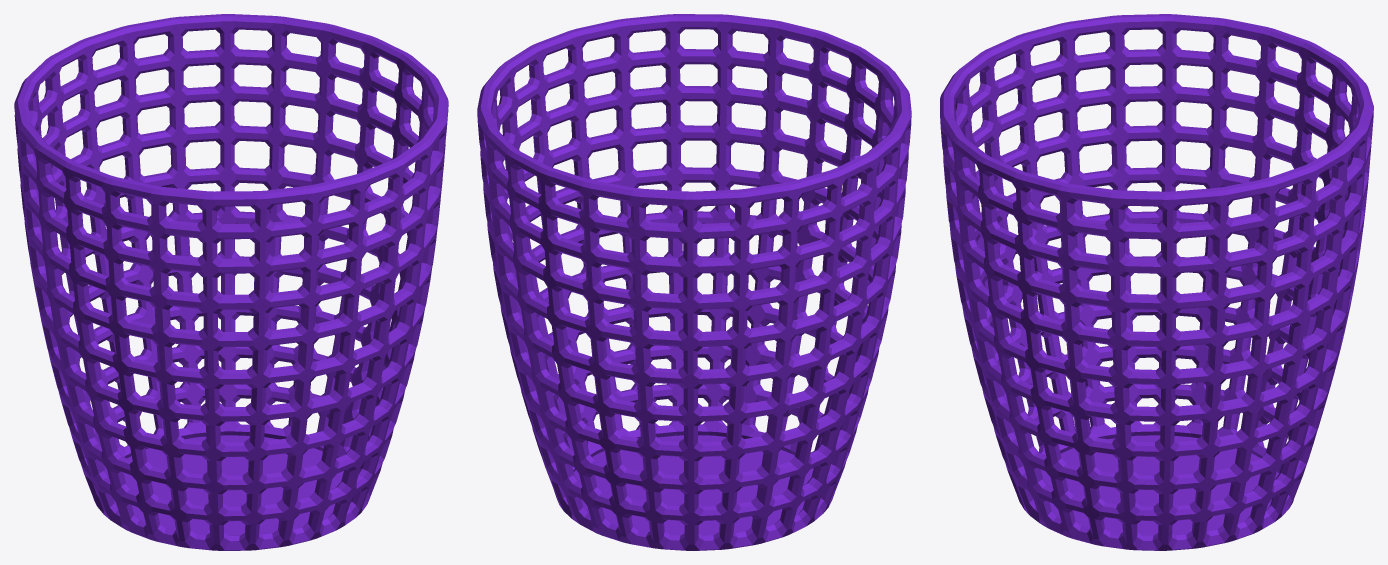
The model's file is basket.fbx.
3 views of the same model, side by side, from view 1: azimuth 30°, elevation 25°; view 2: azimuth 150°, elevation 25°; view 3: azimuth 270°, elevation 25° (orthographic).
Visible parts, largest first — view 1: Cylinder.001; view 2: Cylinder.001; view 3: Cylinder.001.
Boxes of the visible parts, <box> form: Cylinder.001: <box>14,14,448,550</box>; Cylinder.001: <box>477,14,911,550</box>; Cylinder.001: <box>940,14,1373,550</box>.
Size of the model in its own units: 2.16 by 2.14 by 2.16.
